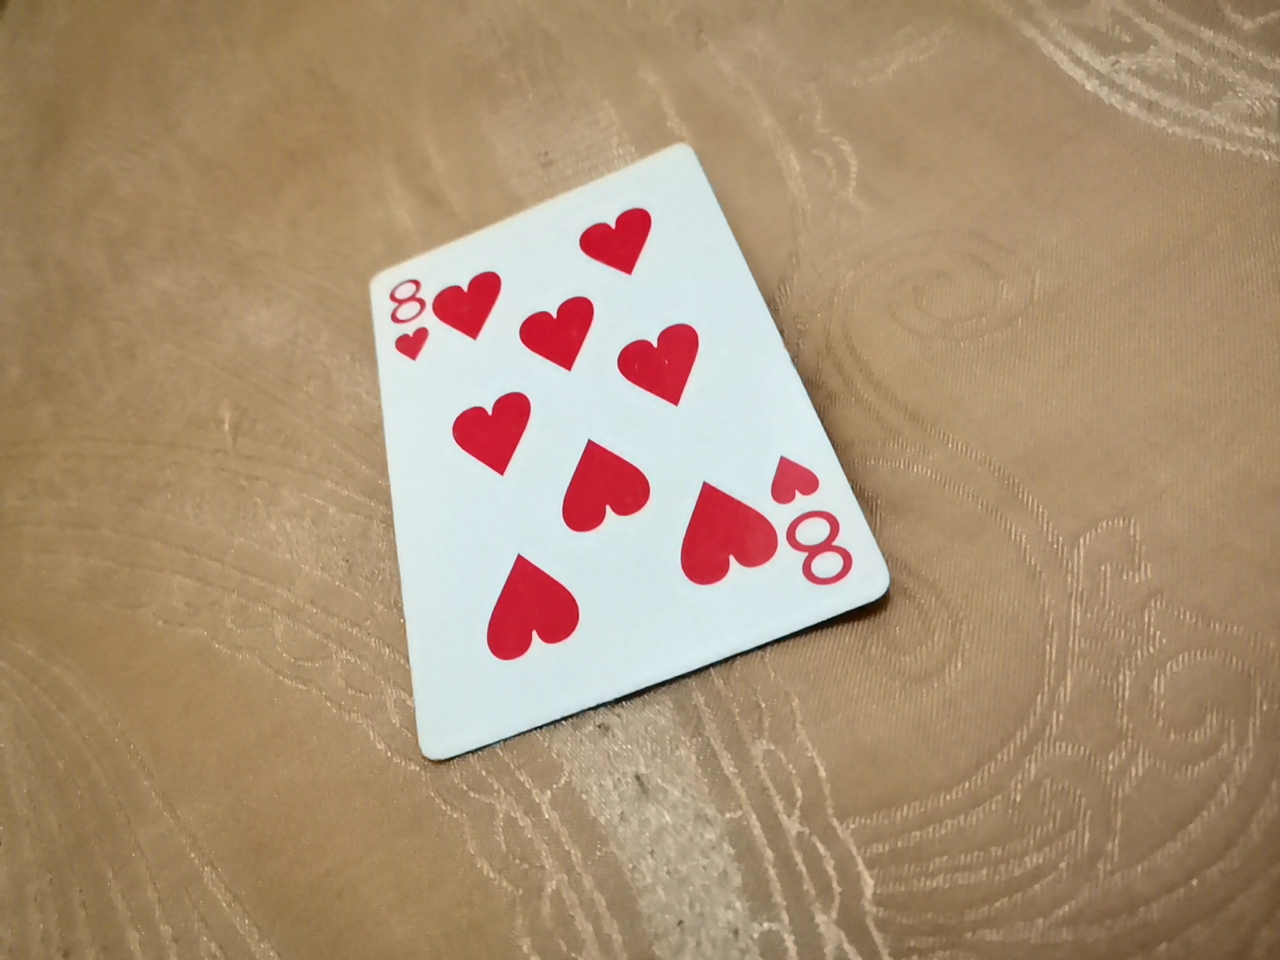hx 8: (354, 151, 891, 785)
